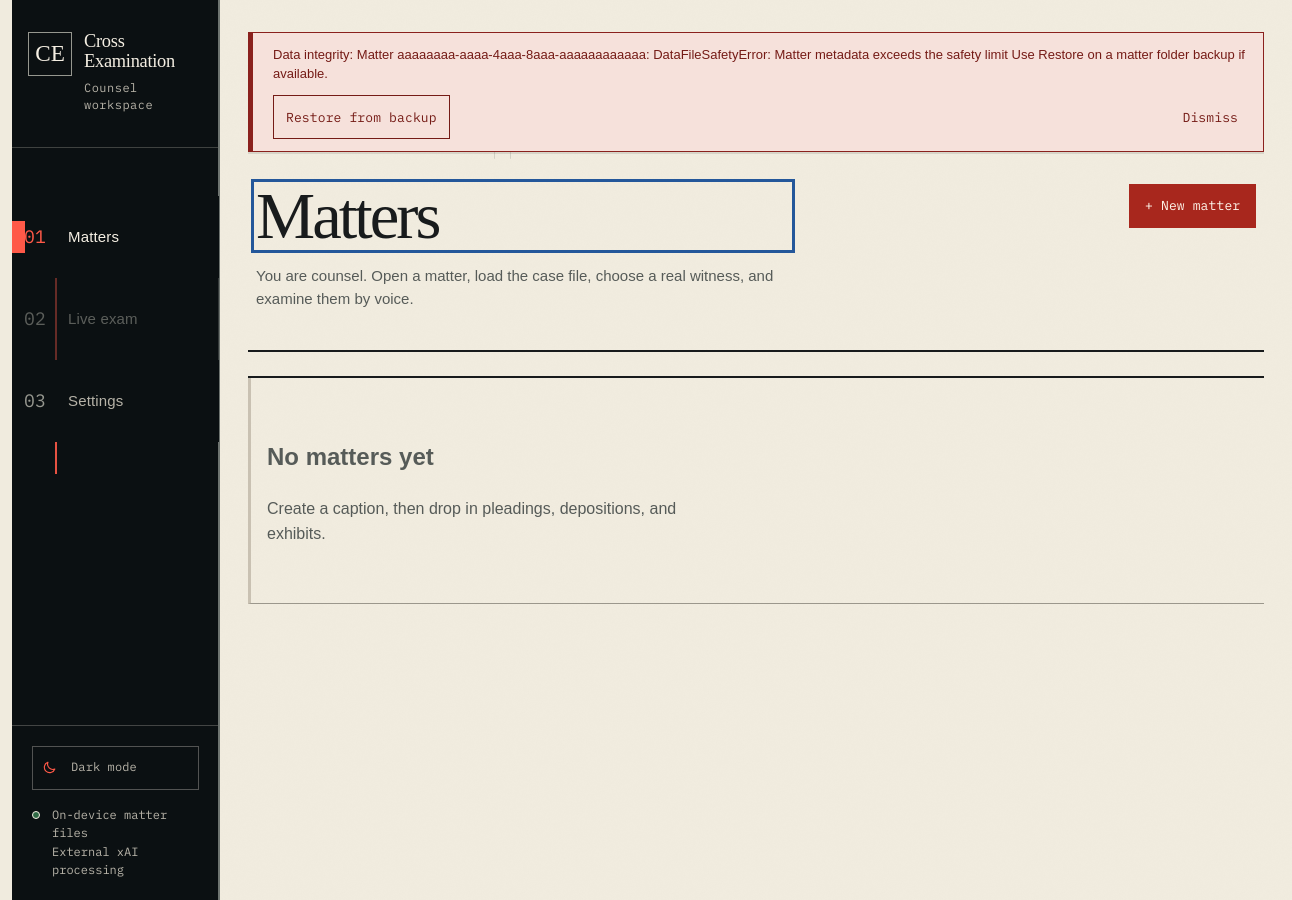
Test case: App async ownership › targets matter recovery from a prefixed low-level metadata error
The width and height of the screenshot is (1292, 900).
Step 1. Click the button "Restore from backup" → (361, 118), box [273,96,450,140]
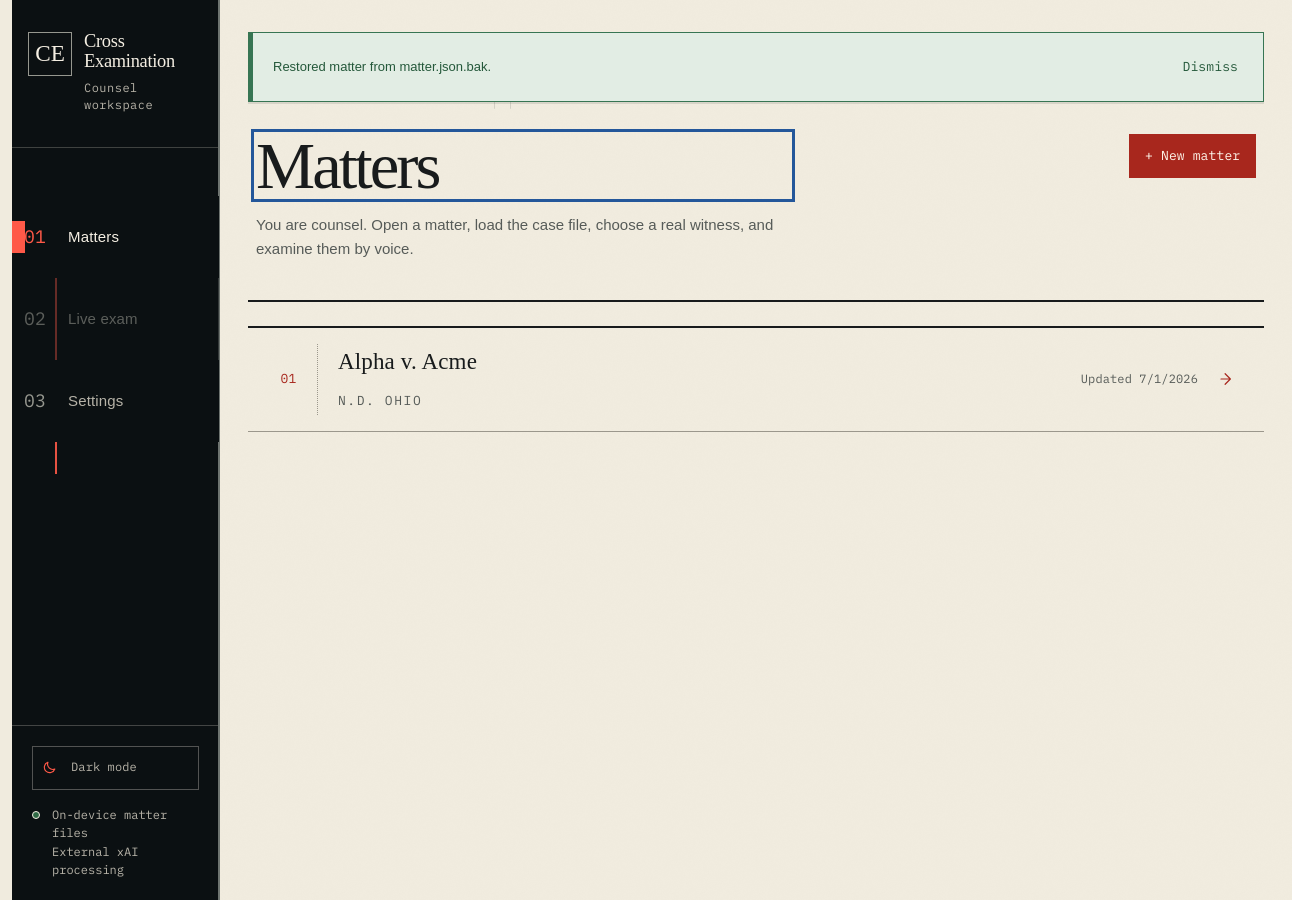
Result: the message shows "Restored matter from matter.json.bak" at [273,59,491,74]
